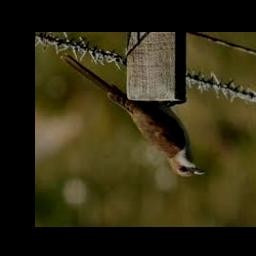Cuckoo: (61, 55, 206, 177)
